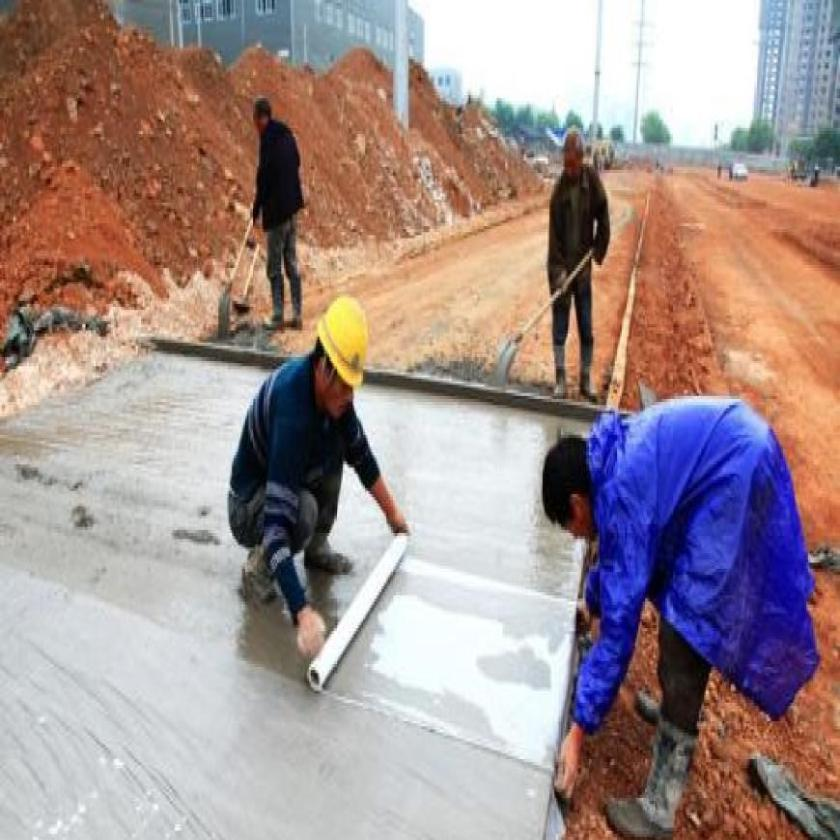Con_casco: (314, 292, 370, 422)
Sin_casco: (535, 430, 602, 555), (560, 131, 586, 188), (249, 99, 274, 138)
